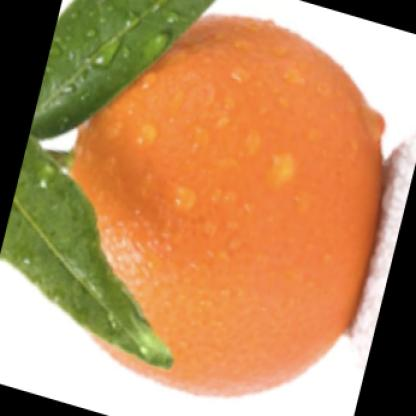fresh: (59, 14, 382, 398)
